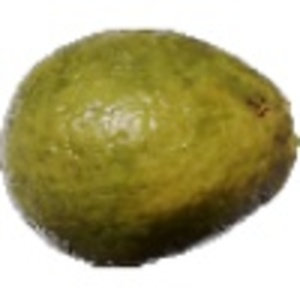goiaba: (2, 22, 281, 274)
